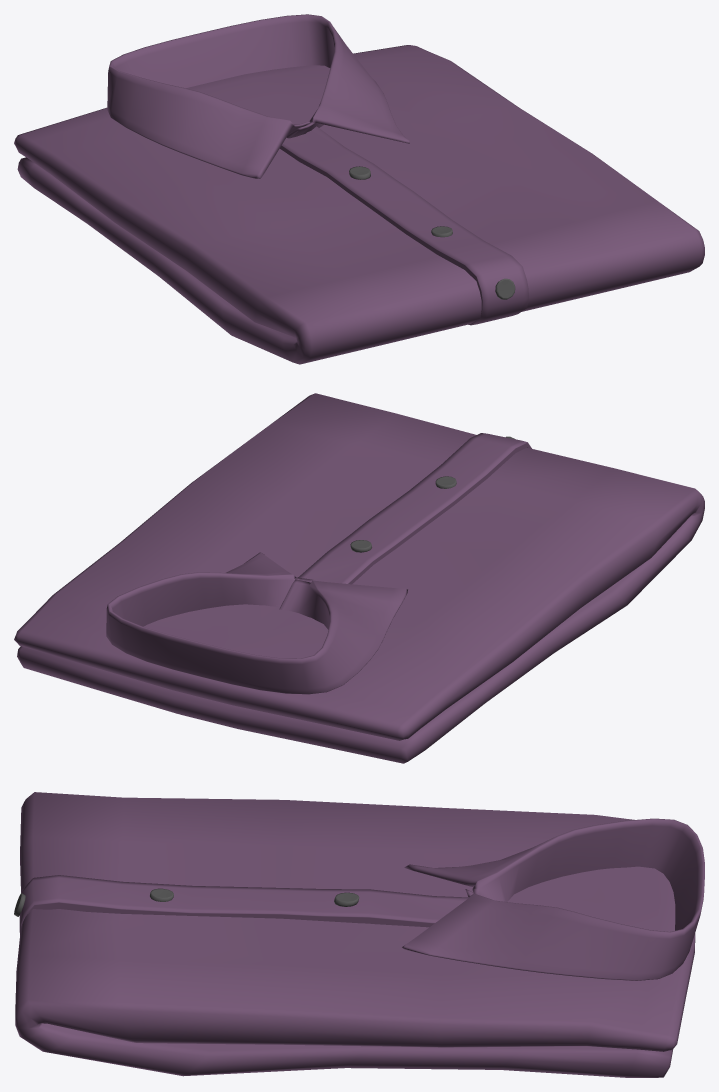
File: Folded_Shirt04.fbx
3 renders of one model, top to bottom at view 1: azimuth 30°, elevation 25°; view 2: azimuth 150°, elevation 25°; view 3: azimuth 270°, elevation 25°, orthographic. The views are drawn at different scales.
Parts seen in each view (by area): view 1: Folded_Shirt04; view 2: Folded_Shirt04; view 3: Folded_Shirt04.
Boxes of the visible parts, bbox=[...] form: Folded_Shirt04: bbox=[14, 14, 704, 364]; Folded_Shirt04: bbox=[14, 393, 704, 763]; Folded_Shirt04: bbox=[14, 792, 704, 1077].
Size of the model in its own units: 24.85 by 5.51 by 33.24.
